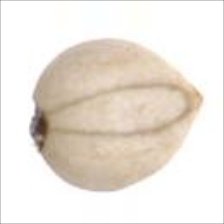L5: (48, 81, 194, 141), (27, 94, 50, 158), (189, 74, 206, 135)
L6: (27, 36, 206, 193)
